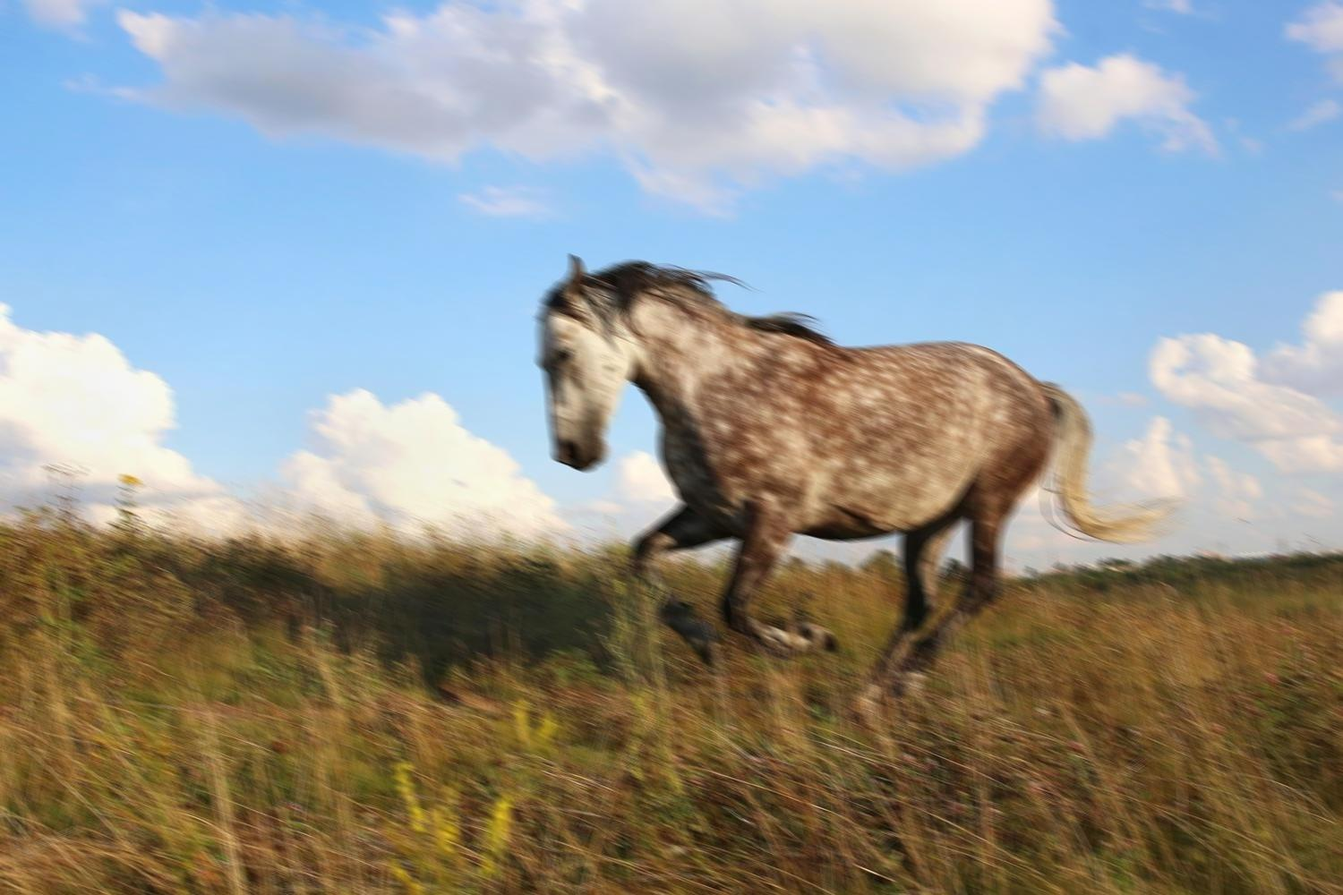horse: (524, 243, 1194, 715)
